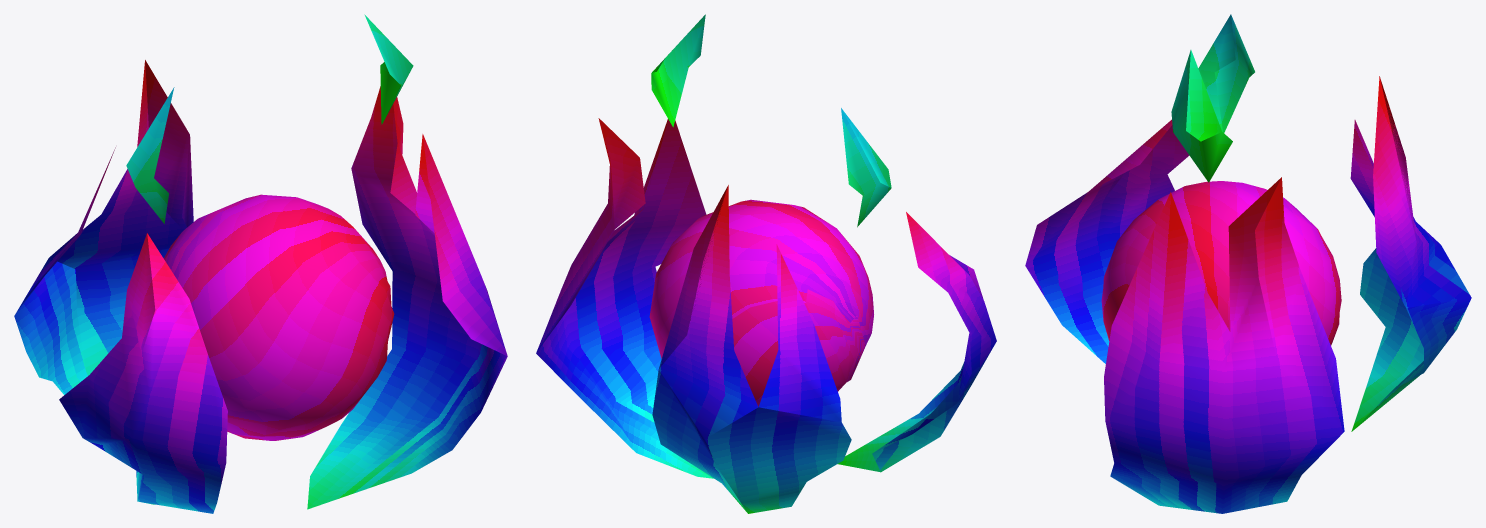
The model's file is proud_soul_sphere.obj.
The picture shows the model from 3 angles, left to right: view 1: azimuth 30°, elevation 25°; view 2: azimuth 150°, elevation 25°; view 3: azimuth 270°, elevation 25°; orthographic projection. The views are drawn at different scales.
Parts seen in each view (by area): view 1: Shpere2; view 2: Shpere2; view 3: Shpere2.
Part boxes in pixels (left/top/right/bottom): Shpere2: left=14, top=14, right=507, bottom=513; Shpere2: left=536, top=14, right=996, bottom=513; Shpere2: left=1025, top=14, right=1471, bottom=513.
Bounding box in the file's own units: 1.3 × 1.4 × 1.18.
